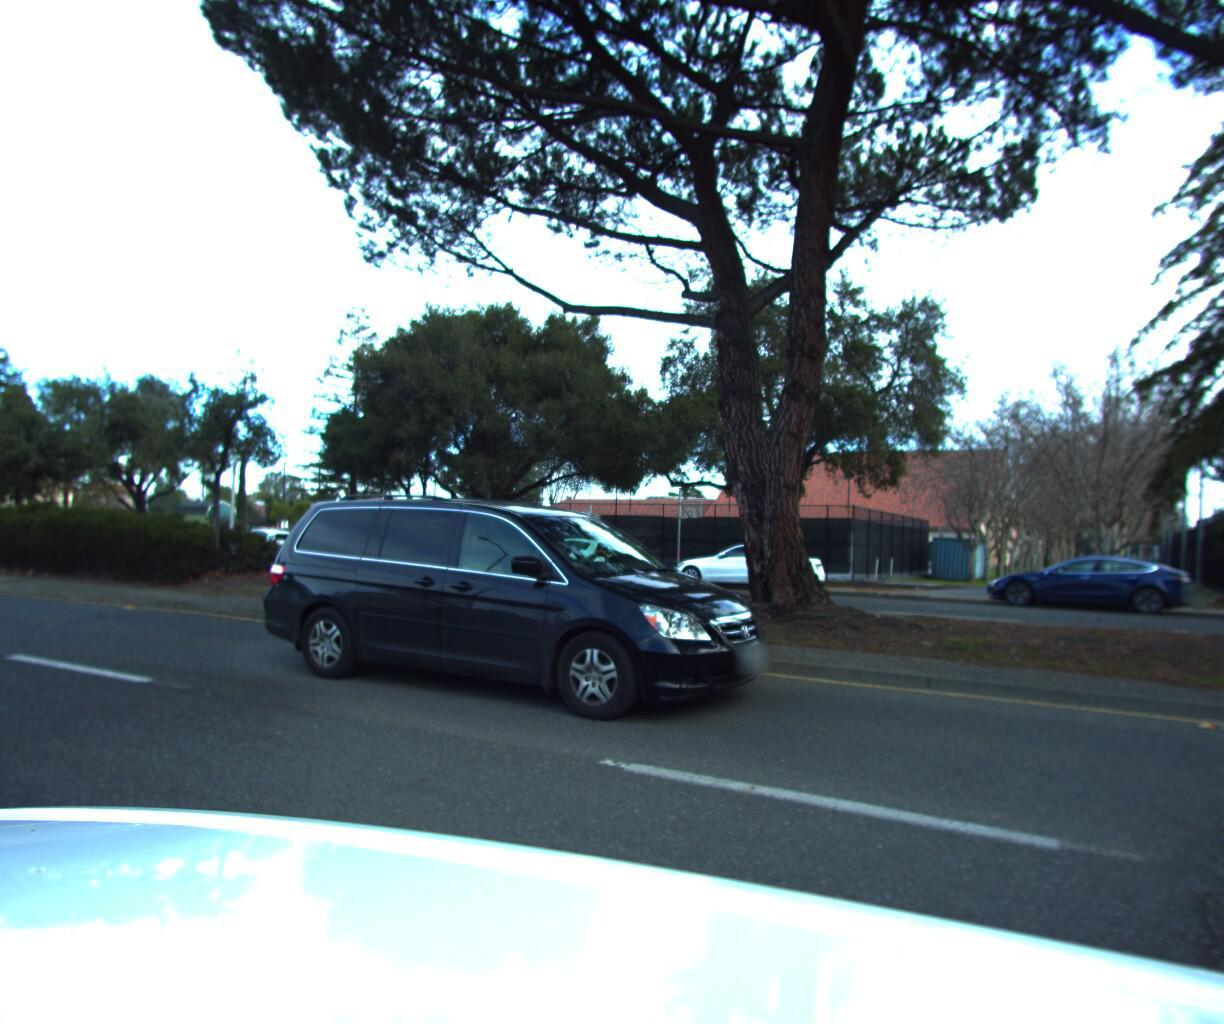car: (248, 481, 800, 736), (976, 543, 1196, 620), (662, 533, 835, 593), (209, 522, 308, 563)
